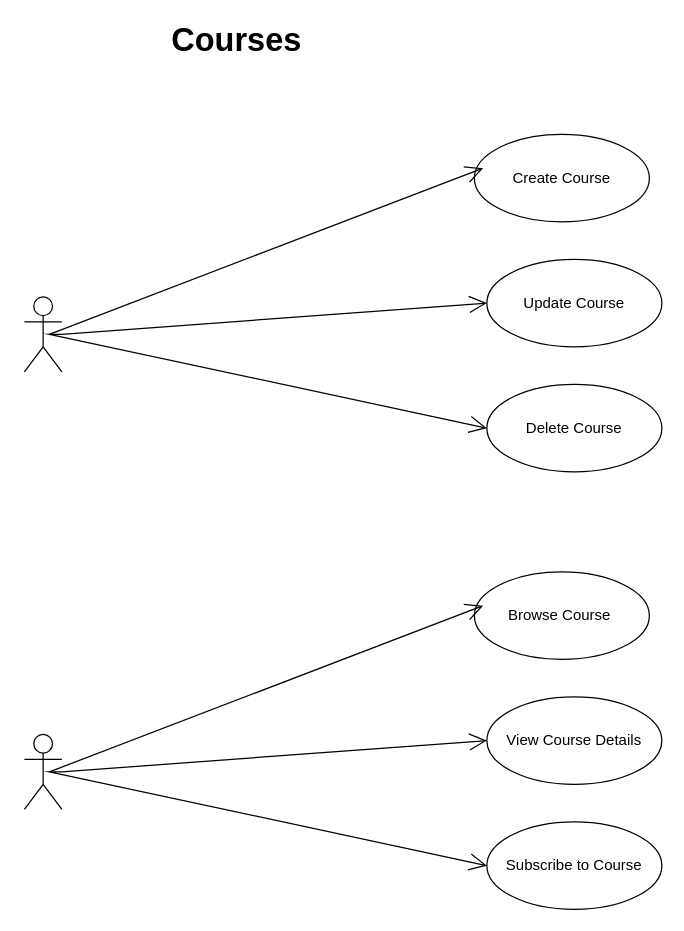
This 684x931 diagram has some shape labels left out. The centre of each missing label's shape, as x and y in pixels:
"Admin" belongs at pixel 42 334.
"Users" belongs at pixel 42 771.
